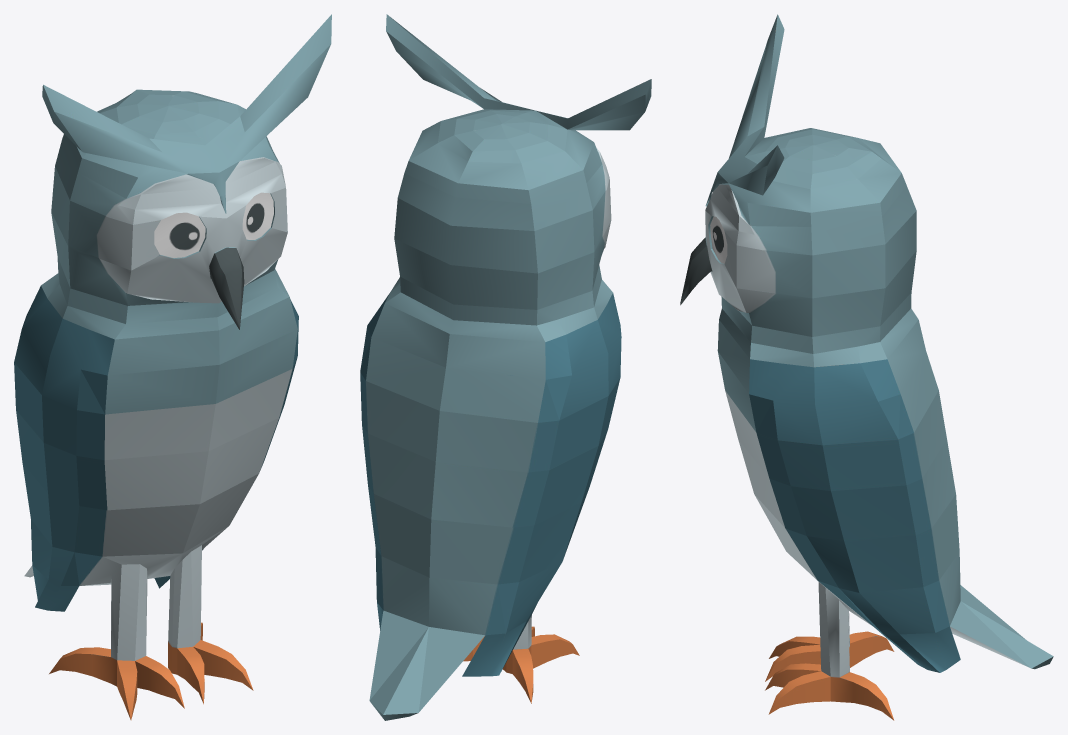
Rendered from Owl.fbx.
The picture shows the model from 3 angles, left to right: view 1: azimuth 30°, elevation 25°; view 2: azimuth 150°, elevation 25°; view 3: azimuth 270°, elevation 25°; orthographic projection. The views are drawn at different scales.
Visible parts, largest first — view 1: Owl_Scouts; view 2: Owl_Scouts; view 3: Owl_Scouts.
Boxes of the visible parts, x1=… form: Owl_Scouts: x1=14, y1=14, x2=331, y2=720; Owl_Scouts: x1=360, y1=14, x2=651, y2=720; Owl_Scouts: x1=680, y1=14, x2=1053, y2=720.
Size of the model in its own units: 55.62 by 120 by 66.93.
1 material, 1 textured.
